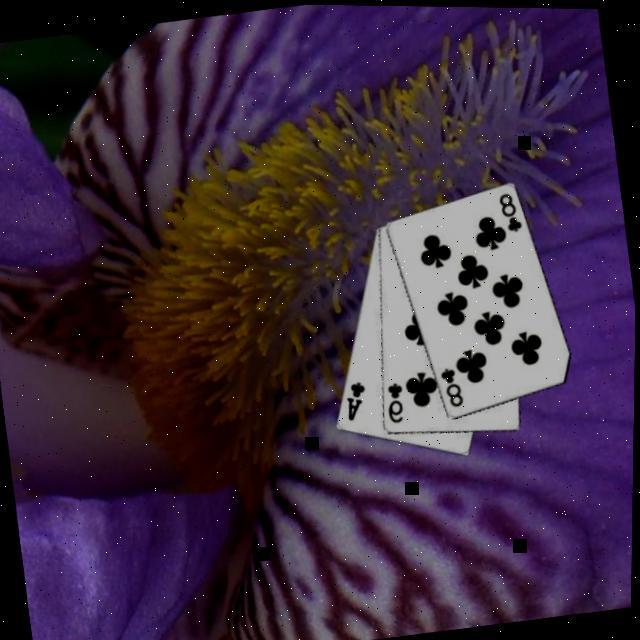6C: (381, 376, 410, 424)
8C: (494, 186, 526, 233), (436, 361, 467, 408)
AC: (340, 376, 372, 422)
